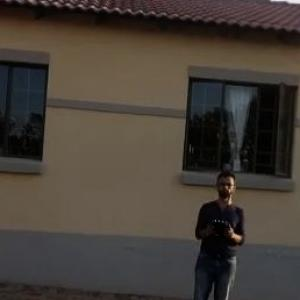follow: (185, 166, 253, 299)
